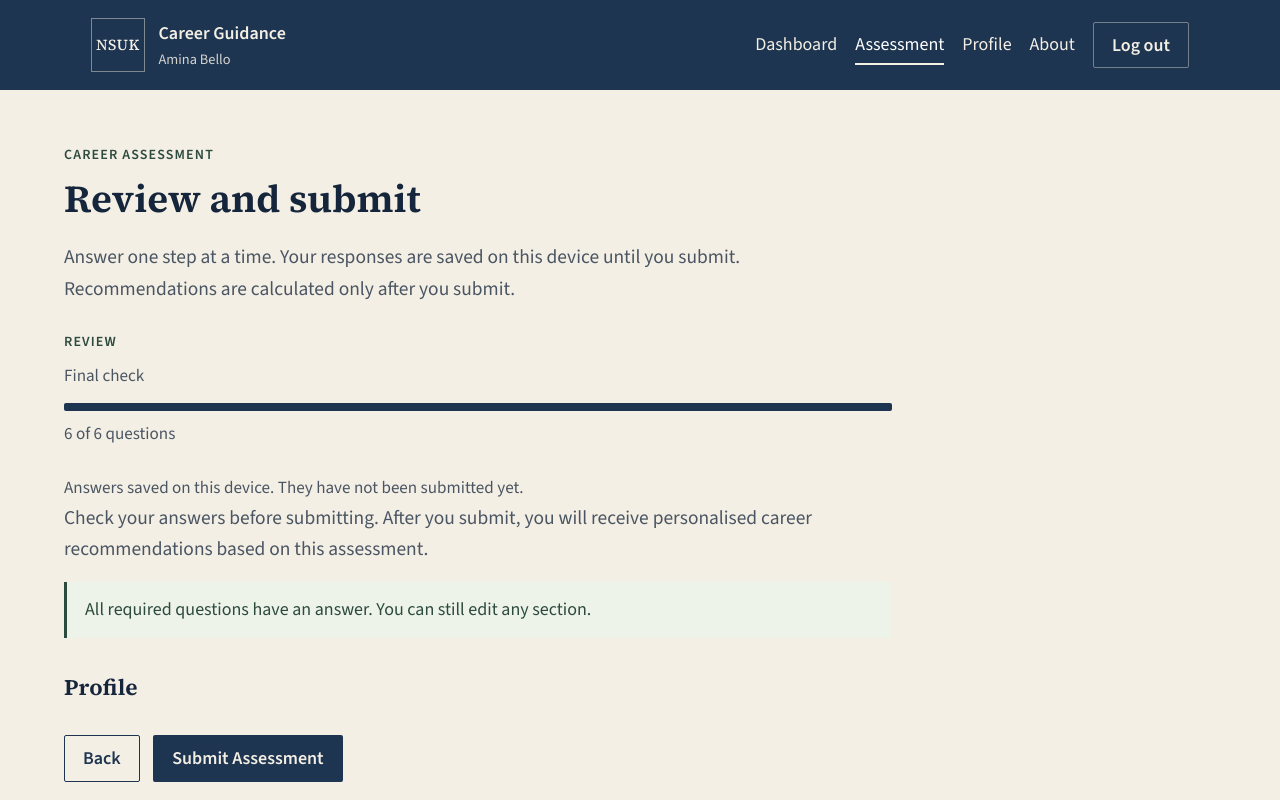
Test: shows the review screen and submits once
Expected: the heading "Review and submit" is shown, 64,172 -> 421,226
Click the button "Submit Assessment": (248, 758) 153,735 -> 343,782
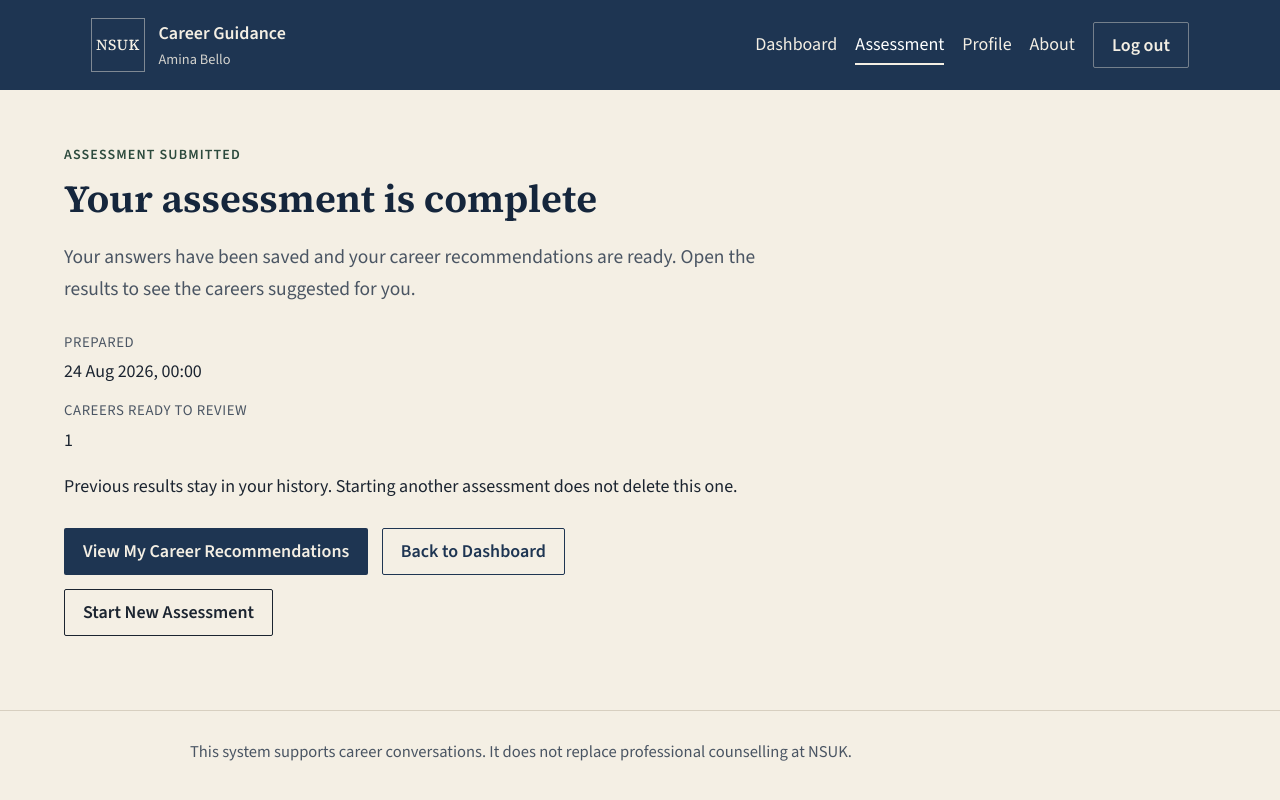
Expected: the heading "Your assessment is complete" is shown, 64,172 -> 597,226
